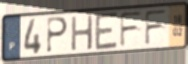4: (22, 17, 43, 56)
E: (94, 10, 119, 52)
F: (143, 8, 169, 47), (118, 10, 144, 49)
H: (70, 13, 95, 53)
P: (45, 16, 69, 55)
